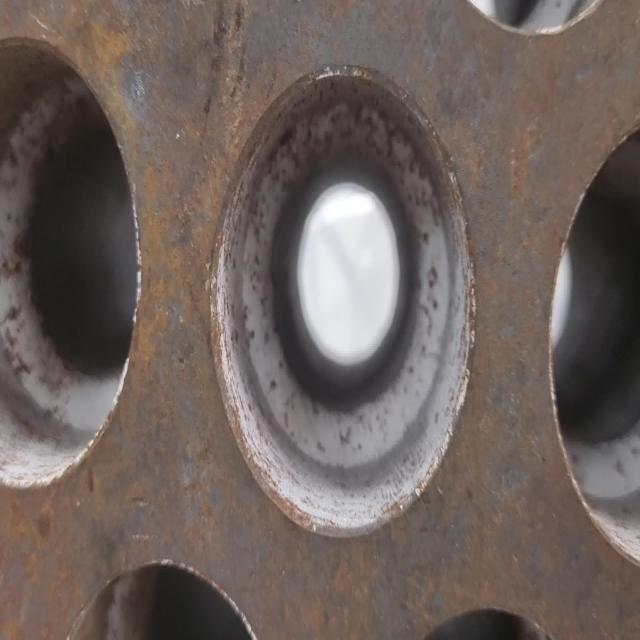Hole: (207, 58, 475, 546), (0, 37, 142, 488), (550, 65, 639, 627), (52, 559, 278, 639)
